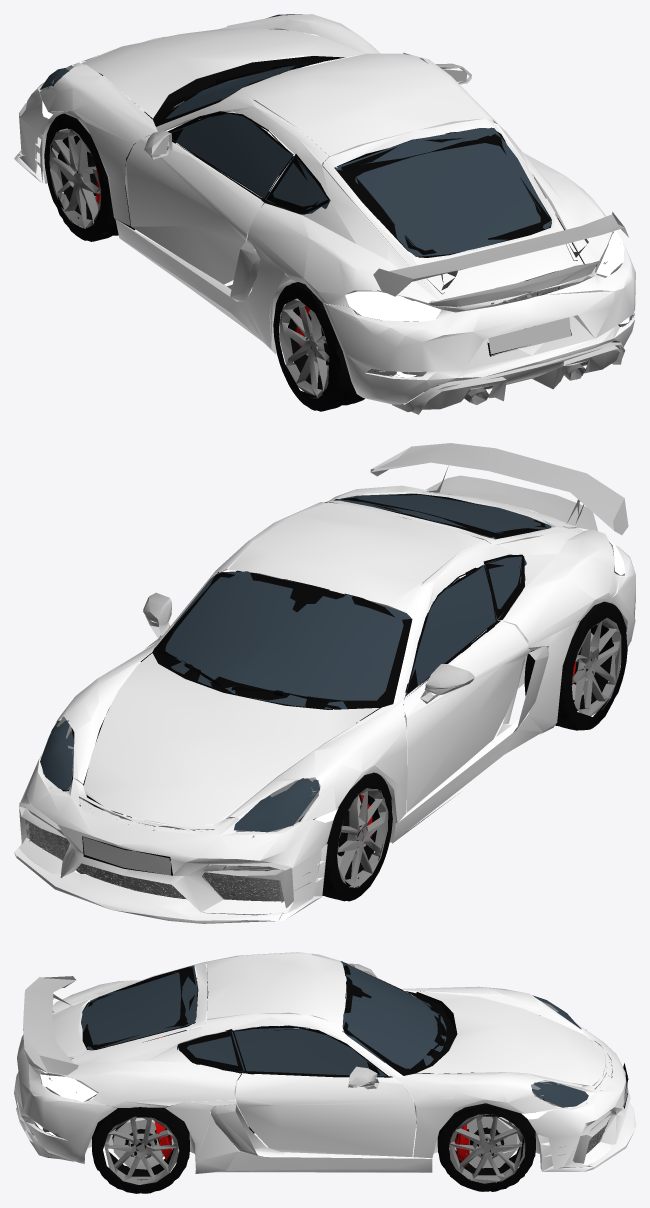
Rendered from porsche.glb.
The picture shows the model from 3 angles, top to bottom: view 1: azimuth 30°, elevation 25°; view 2: azimuth 150°, elevation 25°; view 3: azimuth 270°, elevation 25°; orthographic projection. The views are drawn at different scales.
Visible parts, largest first — view 1: body, spin (×2); view 2: body, spin (×2); view 3: body, spin (×2).
Part boxes in pixels (bbox=[...]): body: bbox=[14, 14, 635, 414]; spin (×2): bbox=[44, 113, 396, 411]; body: bbox=[14, 443, 635, 923]; spin (×2): bbox=[270, 601, 627, 901]; body: bbox=[14, 952, 635, 1173]; spin (×2): bbox=[91, 1103, 536, 1193].
Size of the model in its own units: 0.6498 by 0.4191 by 1.45.
